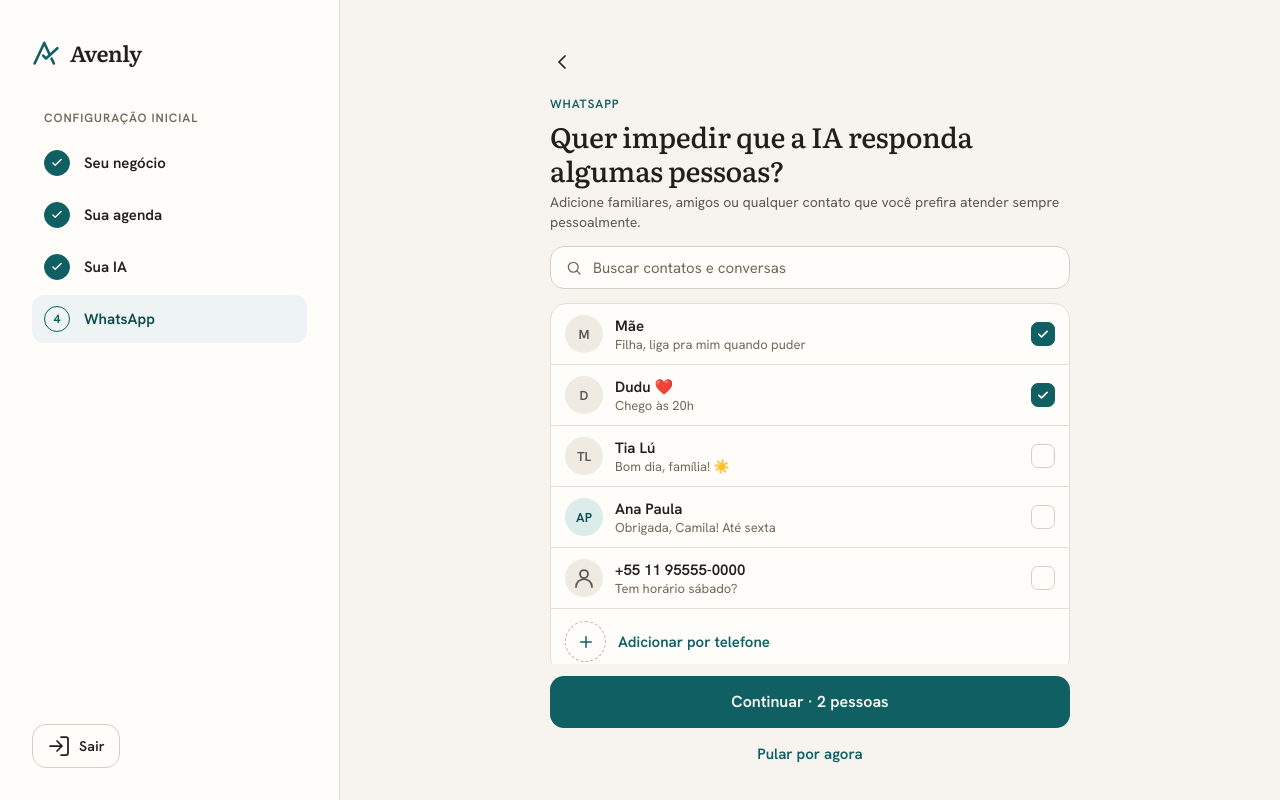
Test: 4.5: marcar grava na hora e a caixa só muda depois da resposta › com erro no PUT, a caixa não muda e mostra o erro de hoje
This screenshot has width=1280, height=800.
Click the checkbox labelled "Tia Lú": x=584, y=456 551,425 -> 1069,486
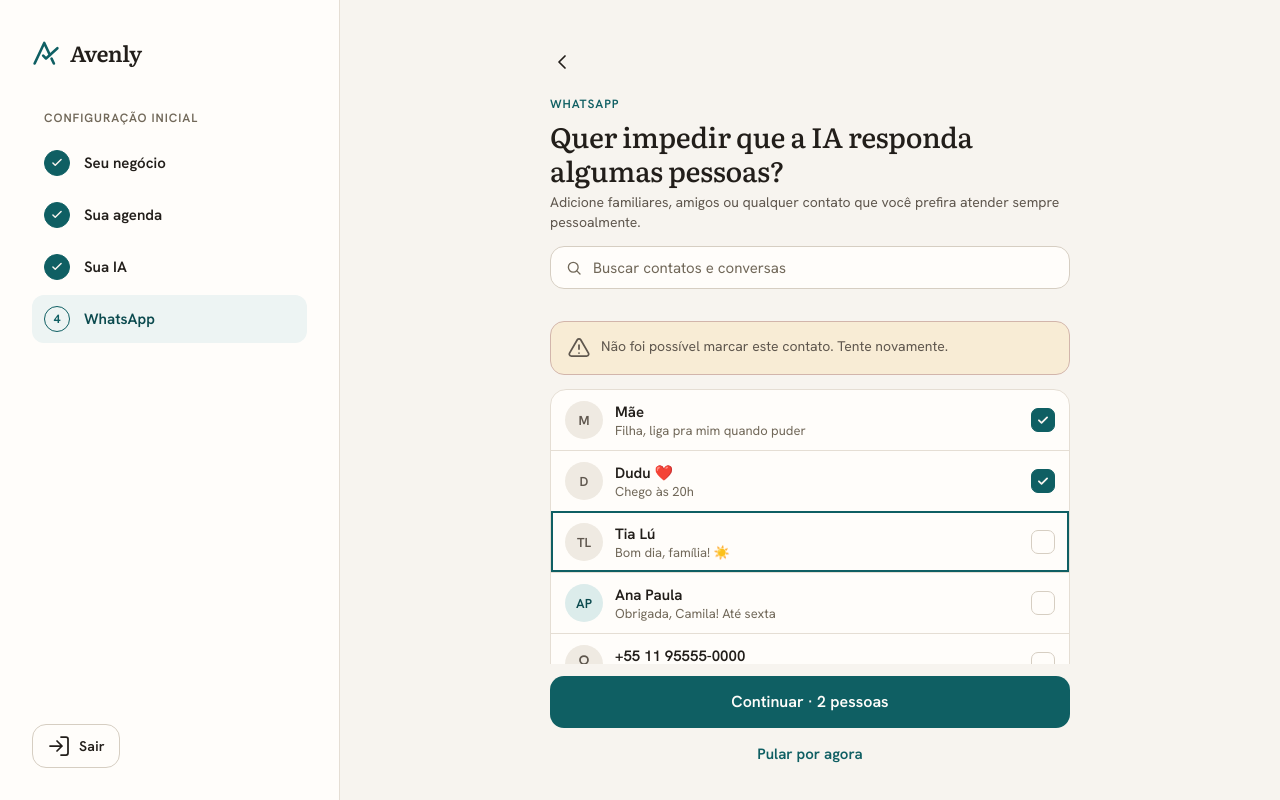
Check: the checkbox labelled "Tia Lú" is not checked, box 551,511 -> 1069,572
Check: the message reads "Não foi possível marcar este contato. Tente novamente.", box 601,337 -> 948,355
